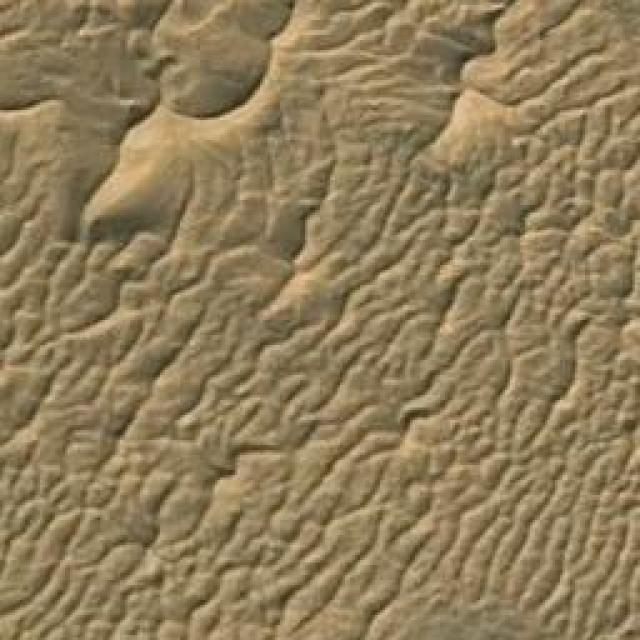Desert: (2, 0, 640, 638)
